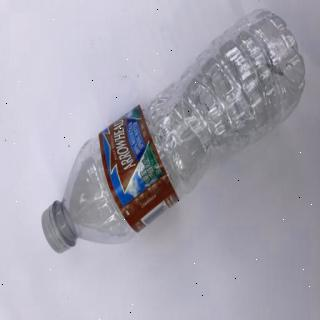Plastic-bottle: (41, 5, 308, 257)
